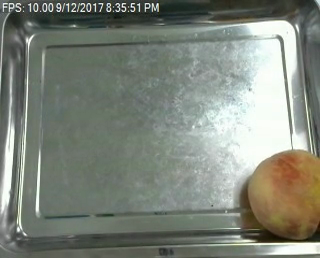Peach: (247, 148, 320, 239)
